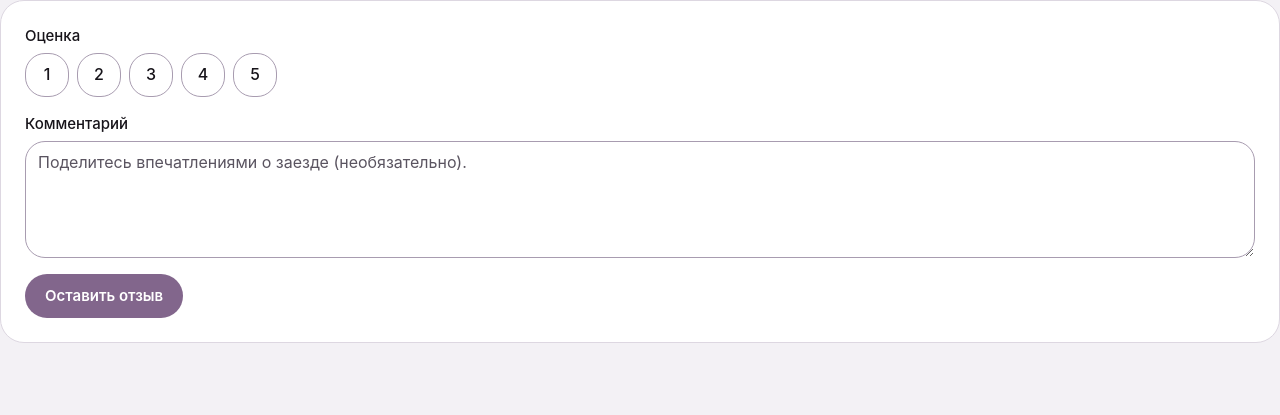
it: ReviewForm validation lines (CR-194) › shows Russian for a server field error and keeps the API’s English off the screen
Click the radio button named "4 из 5" at (203, 75), box [181,53,225,97]
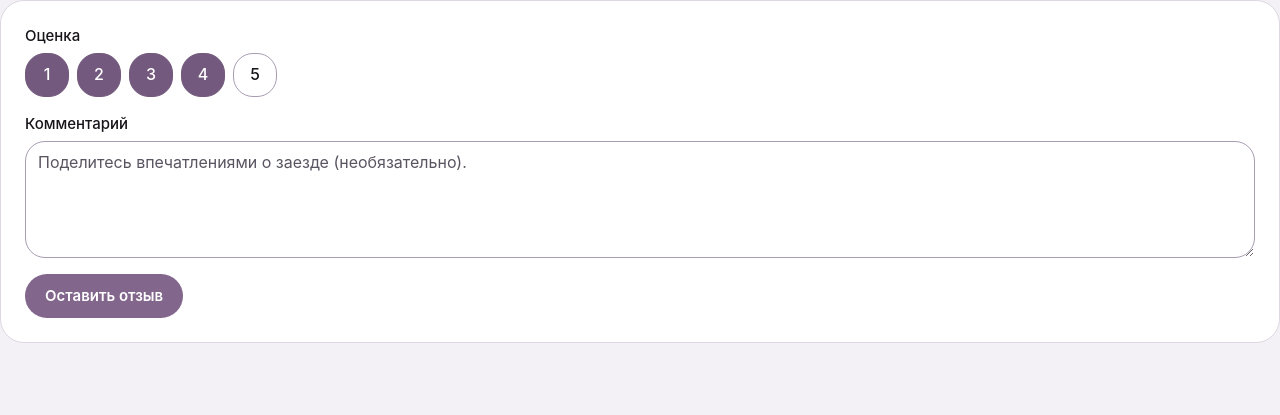
Click the button "Оставить отзыв" at (104, 296), box [25,274,183,318]
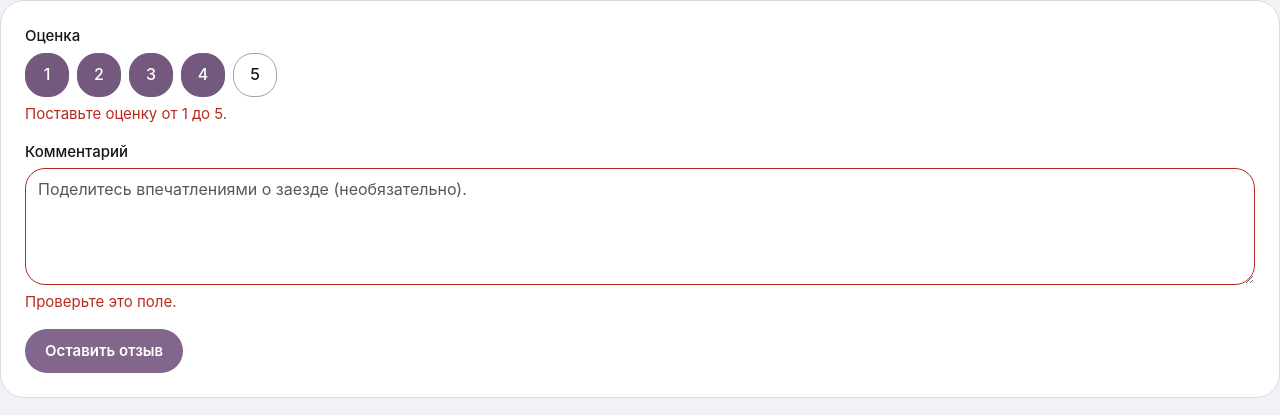
Result: the text "Поставьте оценку от 1 до 5." is shown at [25,104,227,123]
Result: the text "Проверьте это поле." is shown at [25,292,176,311]
